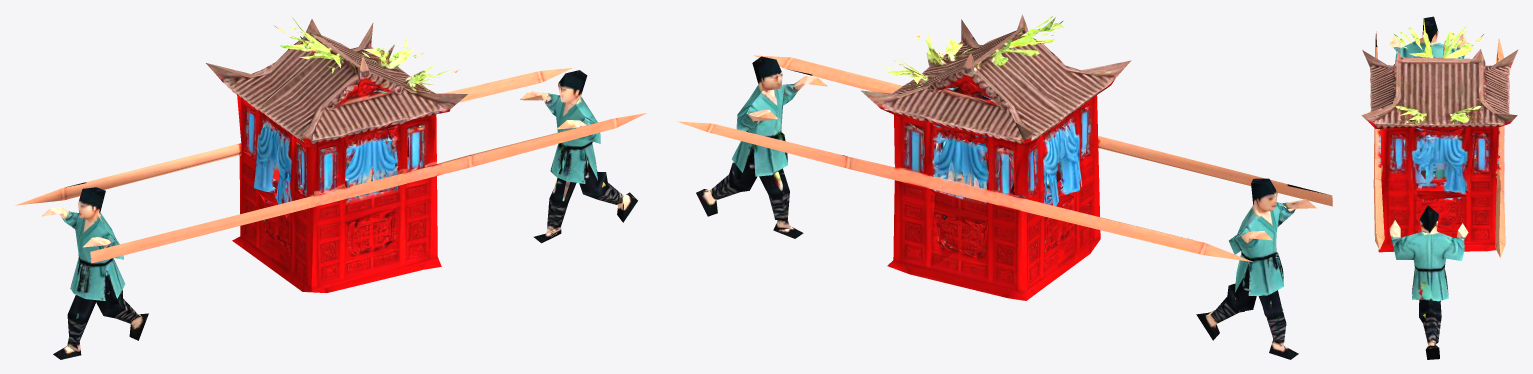
Rendered from qm_sedan_lo.glb.
3 views of the same model, side by side, from view 1: azimuth 30°, elevation 25°; view 2: azimuth 150°, elevation 25°; view 3: azimuth 270°, elevation 25° (orthographic). The views are drawn at different scales.
Visible parts, largest first — view 1: qm_sedan; view 2: qm_sedan; view 3: qm_sedan.
Boxes of the visible parts, bbox=[...] form: qm_sedan: bbox=[15, 16, 646, 359]; qm_sedan: bbox=[676, 14, 1332, 359]; qm_sedan: bbox=[1361, 16, 1518, 359].
Size of the model in its own units: 4.91 by 2.17 by 1.42.
Materials: 1 (1 with a texture image).
